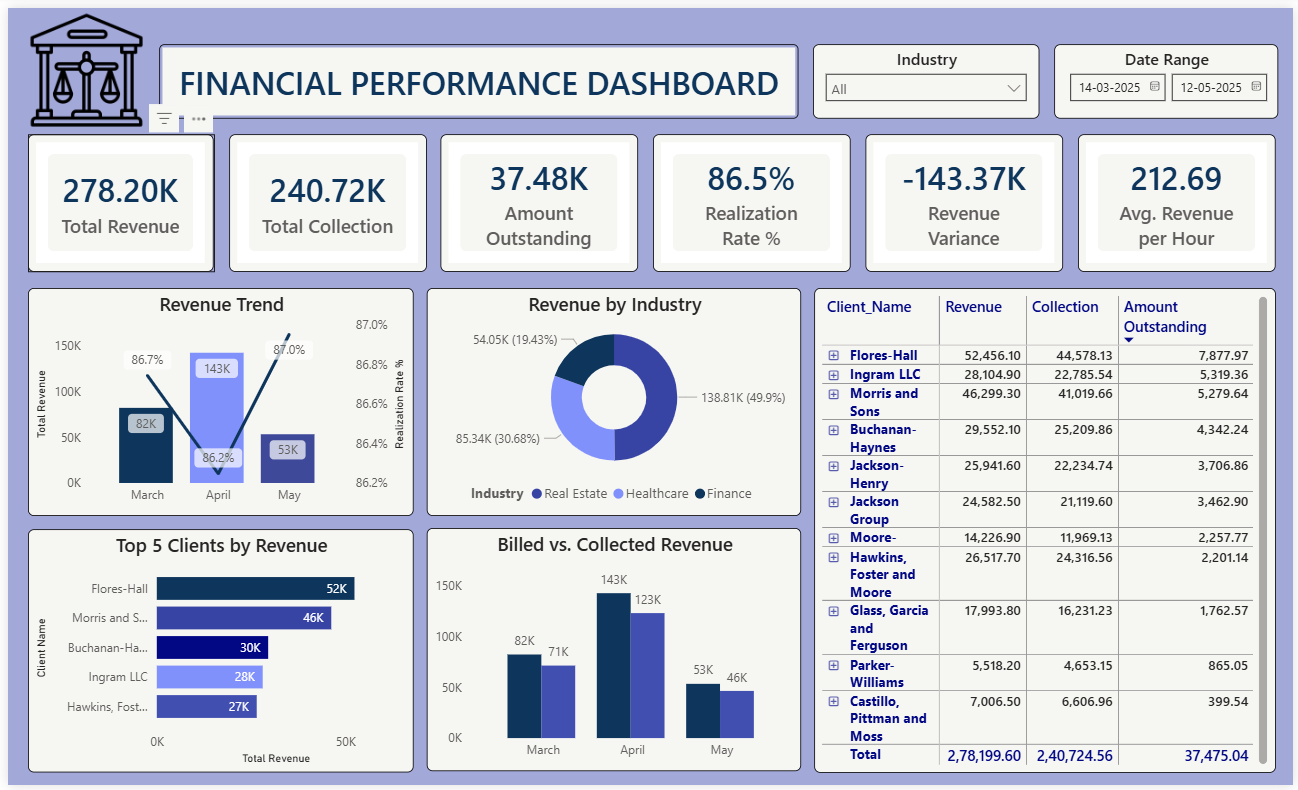

The dashboard page shown, as its layout file describes it:
{"tool":"powerbi","page":{"name":"Financial Performance","canvas":[1285,777],"ordinal":1},"visuals":[{"type":"shape","box":[150.9,36,639.5,74.1],"z":0},{"type":"textbox","box":[166,47,610.6,53.5],"z":1000},{"type":"image","box":[4.1,4.1,149.6,116.6],"z":2000},{"type":"cardVisual","title":"Total Payment","fields":{"Data":["Sum(billing_records.Amount_Billed)"]},"box":[20.6,126.9,185.2,137.2],"z":3000},{"type":"cardVisual","title":"Total Payment","fields":{"Data":["Sum(billing_records.Payment_Received)"]},"box":[220.7,126.9,197.6,137.2],"z":4000},{"type":"cardVisual","fields":{"Data":["billing_records.Outstanding amount"]},"box":[433.1,126.9,197.6,137.2],"z":5000},{"type":"cardVisual","fields":{"Data":["_Key Measures.Case Profit"]},"box":[857.9,126.9,197.6,137.2],"z":6000},{"type":"cardVisual","fields":{"Data":["_Key Measures.Realization Rate %"]},"box":[645.5,126.9,197.6,137.2],"z":7000},{"type":"cardVisual","fields":{"Data":["_Key Measures.Avg. Revenue per Hour"]},"box":[1070.3,126.9,197.6,137.2],"z":8000},{"type":"slicer","title":"Date Range","fields":{"Values":["billing_records.Invoice_Date"]},"box":[1045.6,35.7,223.7,74.1],"z":9000},{"type":"slicer","title":"Industry","fields":{"Values":["client_data.Industry"]},"box":[804.8,35.7,226.4,74.1],"z":10000},{"type":"lineStackedColumnComboChart","title":"Revenue Trend","fields":{"Category":["billing_records.Invoice_Date.Variation.Date Hierarchy.Month"],"Y":["Sum(billing_records.Amount_Billed)"],"Y2":["_Key Measures.Realization Rate %"]},"box":[20.6,279.9,385.6,227.8],"z":11000},{"type":"donutChart","title":"Revenue by Industry","fields":{"Category":["client_data.Industry"],"Y":["Sum(billing_records.Amount_Billed)"]},"box":[418.5,279.9,374.6,227.8],"z":12000},{"type":"barChart","title":"Top 5 Clients by Revenue","fields":{"Category":["client_data.Client_Name"],"Y":["Sum(billing_records.Amount_Billed)"]},"box":[20.6,521.4,385.6,242.9],"z":13000},{"type":"clusteredColumnChart","title":"Billed vs. Collected Revenue ","fields":{"Category":["billing_records.Invoice_Date.Variation.Date Hierarchy.Month"],"Y":["Sum(billing_records.Amount_Billed)","Sum(billing_records.Payment_Received)"]},"box":[418.5,520.1,374.6,242.9],"z":14000},{"type":"pivotTable","fields":{"Rows":["client_data.Client_Name","billing_records.Invoice_Date.Variation.Date Hierarchy.Month"],"Values":["Sum(billing_records.Amount_Billed)","Sum(billing_records.Payment_Received)","_Key Measures.Amount Outstanding"]},"box":[805.9,279.6,461.5,484.9],"z":15000}]}

Visuals, with their boxes in screenshot pixels (x1, y1, x2, y2), scaled from the page's 1285x777 canvas onto the 1298x790 screenshot:
shape: <bbox>152, 37, 798, 112</bbox>
textbox: <bbox>168, 48, 784, 102</bbox>
image: <bbox>4, 4, 155, 123</bbox>
"Total Payment" cardVisual: <bbox>21, 129, 208, 269</bbox>
"Total Payment" cardVisual: <bbox>223, 129, 423, 269</bbox>
cardVisual - billing_records.Outstanding amount: <bbox>437, 129, 637, 269</bbox>
cardVisual - _Key Measures.Case Profit: <bbox>867, 129, 1066, 269</bbox>
cardVisual - _Key Measures.Realization Rate %: <bbox>652, 129, 852, 269</bbox>
cardVisual - _Key Measures.Avg. Revenue per Hour: <bbox>1081, 129, 1281, 269</bbox>
"Date Range" slicer: <bbox>1056, 36, 1282, 112</bbox>
"Industry" slicer: <bbox>813, 36, 1042, 112</bbox>
"Revenue Trend" lineStackedColumnComboChart: <bbox>21, 285, 410, 516</bbox>
"Revenue by Industry" donutChart: <bbox>423, 285, 801, 516</bbox>
"Top 5 Clients by Revenue" barChart: <bbox>21, 530, 410, 777</bbox>
"Billed vs. Collected Revenue " clusteredColumnChart: <bbox>423, 529, 801, 776</bbox>
pivotTable - client_data.Client_Name x billing_records.Invoice_Date.Variation.Date Hierarchy.Month: <bbox>814, 284, 1280, 777</bbox>
